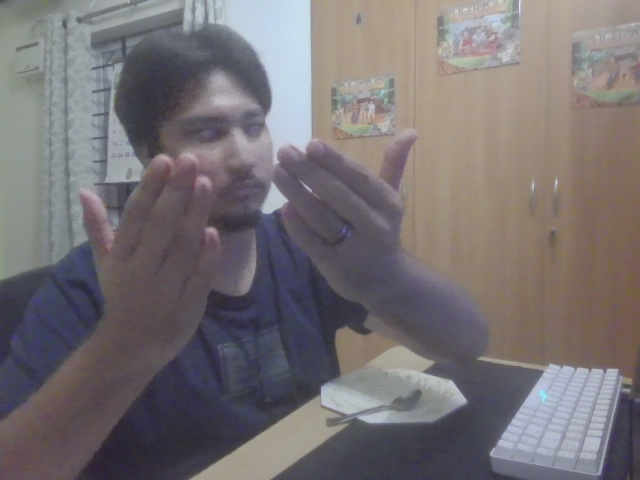thankyou: (75, 128, 426, 340)
